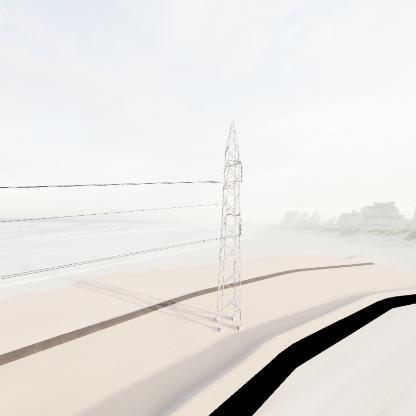tower: (214, 121, 245, 333)
